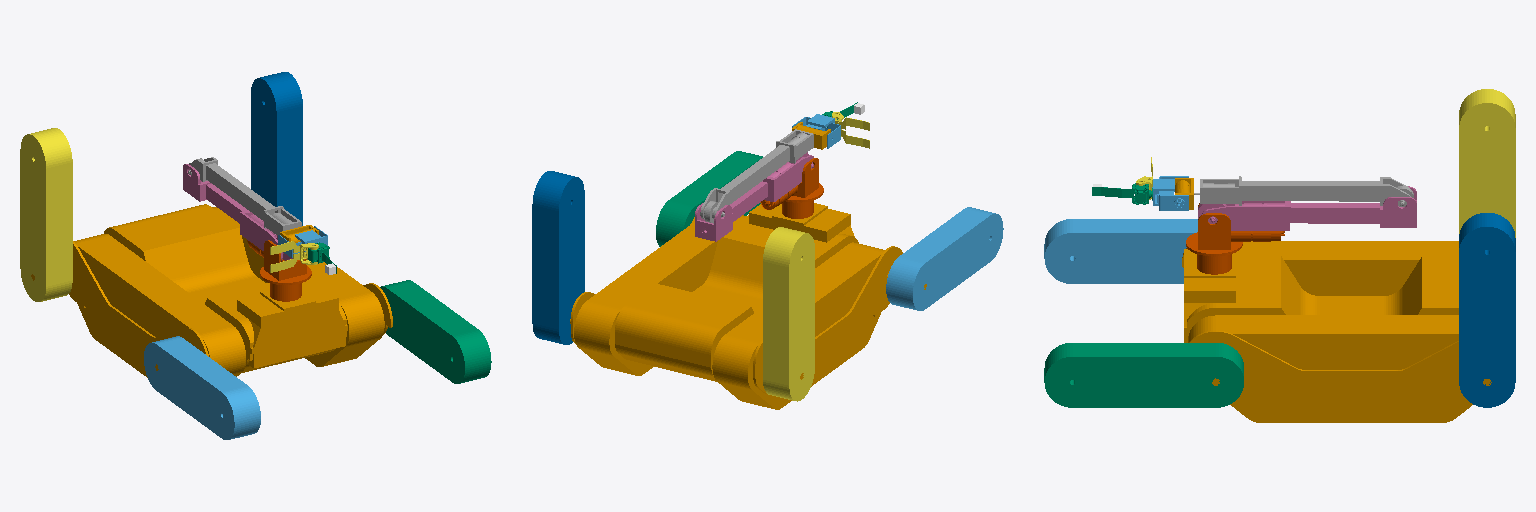
URDF robot description (finder):
<?xml version="1.0" ?>
<!-- =================================================================================== -->
<!-- |    This document was autogenerated by xacro from finder.xacro                   | -->
<!-- |    EDITING THIS FILE BY HAND IS NOT RECOMMENDED                                 | -->
<!-- =================================================================================== -->
<!--Taller de Robotica Abierta
	FinDER robot xacro file 
	developed by [author] 
	December 2016 - January 2017
NOTA: NO utilizar acentos en codigo ni en comentarios, de lo contrario no se podra convertir a URDF.-->
<!-- Rojo= X, Verde=Y y Azul= Z (color de los ejes en Rviz)-->
<robot name="finder" xmlns:xacro="http://www.ros.org/wiki/xacro">
  <!-- Macro para "mandar llamar" a las mallas *.obj -->
  <!--General porpuse variables-->
  <!--Inertial matrix macro-->
  <!--Macro para crear los eslabones y "mandar llamar" a los brazos laterales del chasis-->
  <!--Macro para crear las juntas de los brazos laterales con el chasis-->
  <!--parameters for geometries in collision tags-->
  <!--///////////////////// shoulder collision geometry//////////////////////////////-->
  <!--///////////////////// elbow  collision geometry//////////////////////////////-->
  <!--altura en y-->
  <!--altura en x-->
  <!--altura en z-->
  <!--///////////////////// elbow  collision geometry//////////////////////////////-->
  <!--altura en y-->
  <!--altura en x-->
  <!--altura en z-->
  <!--Cylinder parameters-->
  <!-- Grasping frame -->
  <material name="White">
    <color rgba="1.0 1.0 1.0 1.0"/>
  </material>
  <!--//////////////////////////  base link //////////////////-->
  <!--link name = "base_link"></link-->
  <link name="base_link">
    <visual>
      <geometry>
        <!-- Typically, STL/DAE/OBJ model units are in mm, but RViz units are in m, hence models must be scaled down by 1000-->
        <mesh filename="package://finder_description/mallas/chasis.obj" scale="0.001 0.001 0.001"/>
      </geometry>
      <origin xyz="0 0 0"/>
    </visual>
    <collision>
      <geometry>
        <!-- Typically, STL/DAE/OBJ model units are in mm, but RViz units are in m, hence models must be scaled down by 1000-->
        <mesh filename="package://finder_description/mallas/chasis.obj" scale="0.001 0.001 0.001"/>
      </geometry>
      <origin xyz="0 0 0"/>
    </collision>
  </link>
  <!--////////////////// juntas de los brazos laterales del chasis //////////////////-->
  <!-- junta del brazo frontal derecho -->
  <joint name="right_front_flipper" type="revolute">
    <parent link="base_link"/>
    <child link="right_front_arm"/>
    <origin xyz="-0.3264 -0.30255 0.1556"/>
    <axis xyz="1 0 0"/>
    <limit effort="300" lower="-3.14159265359" upper="3.14159265359" velocity="0.1"/>
  </joint>
  <!-- junta del brazo frontal izquierdo -->
  <joint name="left_front_flipper" type="revolute">
    <parent link="base_link"/>
    <child link="left_front_arm"/>
    <origin xyz="0.3264 -0.30255 0.1556"/>
    <axis xyz="1 0 0"/>
    <limit effort="300" lower="-3.14159265359" upper="3.14159265359" velocity="0.1"/>
  </joint>
  <!-- junta del brazo trasero derecho -->
  <joint name="right_back_flipper" type="revolute">
    <parent link="base_link"/>
    <child link="right_back_arm"/>
    <origin xyz="-0.3264 0.30255 0.1556"/>
    <axis xyz="1 0 0"/>
    <limit effort="300" lower="-3.14159265359" upper="3.14159265359" velocity="0.1"/>
  </joint>
  <!-- junta del brazo trasero izquierdo -->
  <joint name="left_back_flipper" type="revolute">
    <parent link="base_link"/>
    <child link="left_back_arm"/>
    <origin xyz="0.3264 0.30255 0.1556"/>
    <axis xyz="1 0 0"/>
    <limit effort="300" lower="-3.14159265359" upper="3.14159265359" velocity="0.1"/>
  </joint>
  <!--////////////// brazos laterales del chasis ////////////////////-->
  <!-- brazo frontal derecho chasis -->
  <link name="right_front_arm">
    <visual>
      <geometry>
        <!-- Typically, STL/DAE/OBJ model units are in mm, but RViz units are in m, hence models must be scaled down by 1000-->
        <mesh filename="package://finder_description/mallas/brazo_der_frontal.obj" scale="0.001 0.001 0.001"/>
      </geometry>
      <origin xyz="0.3264 0.30255 -0.0629"/>
    </visual>
    <collision>
      <geometry>
        <!-- Typically, STL/DAE/OBJ model units are in mm, but RViz units are in m, hence models must be scaled down by 1000-->
        <mesh filename="package://finder_description/mallas/brazo_der_frontal.obj" scale="0.001 0.001 0.001"/>
      </geometry>
      <origin xyz="0.3264 0.30255 -0.0629"/>
    </collision>
  </link>
  <!-- brazo frontal izquierdo chasis -->
  <link name="left_front_arm">
    <visual>
      <geometry>
        <!-- Typically, STL/DAE/OBJ model units are in mm, but RViz units are in m, hence models must be scaled down by 1000-->
        <mesh filename="package://finder_description/mallas/brazo_izq_frontal.obj" scale="0.001 0.001 0.001"/>
      </geometry>
      <origin xyz="-0.3264 0.30255 -0.0629"/>
    </visual>
    <collision>
      <geometry>
        <!-- Typically, STL/DAE/OBJ model units are in mm, but RViz units are in m, hence models must be scaled down by 1000-->
        <mesh filename="package://finder_description/mallas/brazo_izq_frontal.obj" scale="0.001 0.001 0.001"/>
      </geometry>
      <origin xyz="-0.3264 0.30255 -0.0629"/>
    </collision>
  </link>
  <!-- brazo trasero derecho chasis -->
  <link name="right_back_arm">
    <visual>
      <geometry>
        <!-- Typically, STL/DAE/OBJ model units are in mm, but RViz units are in m, hence models must be scaled down by 1000-->
        <mesh filename="package://finder_description/mallas/brazo_der_trasero.obj" scale="0.001 0.001 0.001"/>
      </geometry>
      <origin xyz="0.3264 -0.30255 -0.0629"/>
    </visual>
    <collision>
      <geometry>
        <!-- Typically, STL/DAE/OBJ model units are in mm, but RViz units are in m, hence models must be scaled down by 1000-->
        <mesh filename="package://finder_description/mallas/brazo_der_trasero.obj" scale="0.001 0.001 0.001"/>
      </geometry>
      <origin xyz="0.3264 -0.30255 -0.0629"/>
    </collision>
  </link>
  <!-- brazo trasero izquierdo chasis -->
  <link name="left_back_arm">
    <visual>
      <geometry>
        <!-- Typically, STL/DAE/OBJ model units are in mm, but RViz units are in m, hence models must be scaled down by 1000-->
        <mesh filename="package://finder_description/mallas/brazo_izq_trasero.obj" scale="0.001 0.001 0.001"/>
      </geometry>
      <origin xyz="-0.3264 -0.30255 -0.0629"/>
    </visual>
    <collision>
      <geometry>
        <!-- Typically, STL/DAE/OBJ model units are in mm, but RViz units are in m, hence models must be scaled down by 1000-->
        <mesh filename="package://finder_description/mallas/brazo_izq_trasero.obj" scale="0.001 0.001 0.001"/>
      </geometry>
      <origin xyz="-0.3264 -0.30255 -0.0629"/>
    </collision>
  </link>
  <!--///////////////// Brazo 6GDL + Gripper//////////////////-->
  <!--////////////////// "eje tronco" rotation joint //////////////////-->
  <joint name="base_rotation" type="revolute">
    <parent link="base_link"/>
    <child link="eje_tronco"/>
    <origin rpy="0 0 0" xyz="0 -0.30645 0.2236"/>
    <axis xyz="0 0 1"/>
    <limit effort="300" lower="-3.14159265359" upper="3.14159265359" velocity="0.1"/>
  </joint>
  <!--////////////////// "eje tronco link" //////////////////-->
  <link name="eje_tronco">
    <visual>
      <geometry>
        <!-- Typically, STL/DAE/OBJ model units are in mm, but RViz units are in m, hence models must be scaled down by 1000-->
        <mesh filename="package://finder_description/mallas/base.obj" scale="0.001 0.001 0.001"/>
      </geometry>
      <origin xyz="0 0 0"/>
    </visual>
    <collision>
      <geometry>
        <!-- Typically, STL/DAE/OBJ model units are in mm, but RViz units are in m, hence models must be scaled down by 1000-->
        <mesh filename="package://finder_description/mallas/base.obj" scale="0.001 0.001 0.001"/>
      </geometry>
    </collision>
  </link>
  <!--//////////////////"eje_tronco-shoulder rotation joint//////////////////-->
  <joint name="shoulder_rotation" type="revolute">
    <parent link="eje_tronco"/>
    <child link="shoulder"/>
    <origin xyz="0 -0.0035 0.179"/>
    <axis xyz="1 0 0"/>
    <!--limit effort="300" velocity="0.1" lower="${-pi}" upper="${pi}"/-->
    <limit effort="300" lower="0" upper="3.1" velocity="0.1"/>
  </joint>
  <!--////////////////////// shoulder link //////////////////////-->
  <link name="shoulder">
    <visual>
      <geometry>
        <!-- Typically, STL/DAE/OBJ model units are in mm, but RViz units are in m, hence models must be scaled down by 1000-->
        <mesh filename="package://finder_description/mallas/hombro.obj" scale="0.001 0.001 0.001"/>
      </geometry>
      <origin xyz="0 0.0035 -0.0338"/>
    </visual>
    <collision>
      <origin xyz="0 0.0035 -0.0338"/>
      <geometry>
        <!-- Typically, STL/DAE/OBJ model units are in mm, but RViz units are in m, hence models must be scaled down by 1000-->
        <mesh filename="package://finder_description/mallas/hombro.obj" scale="0.001 0.001 0.001"/>
      </geometry>
    </collision>
  </link>
  <!--///////////////////// "shoulder-elbow" rotation joint ////////////////////////////-->
  <joint name="elbow_rotation" type="revolute">
    <parent link="shoulder"/>
    <child link="elbow"/>
    <origin xyz="0 0.423 0.0363"/>
    <axis xyz="1 0 0"/>
    <!--limit effort="300" velocity="0.1" lower="${-pi}" upper="${pi}"/-->
    <limit effort="300" lower="-2.3" upper="0" velocity="0.1"/>
  </joint>
  <!--////////////////////// elbow link /////////////////////////////////////-->
  <link name="elbow">
    <visual>
      <!--origin xyz= "0 -0.4192 -0.027"/-->
      <origin xyz="0 -0.668 -0.027"/>
      <geometry>
        <!-- Typically, STL/DAE/OBJ model units are in mm, but RViz units are in m, hence models must be scaled down by 1000-->
        <mesh filename="package://finder_description/mallas/codo.obj" scale="0.001 0.001 0.001"/>
      </geometry>
    </visual>
    <collision>
      <origin xyz="0 -0.4192 -0.027"/>
      <geometry>
        <!-- Typically, STL/DAE/OBJ model units are in mm, but RViz units are in m, hence models must be scaled down by 1000-->
        <mesh filename="package://finder_description/mallas/codo.obj" scale="0.001 0.001 0.001"/>
      </geometry>
    </collision>
  </link>
  <!--/////////////////////// roll joint ///////////////////////-->
  <joint name="roll_rotation" type="revolute">
    <parent link="elbow"/>
    <child link="roll"/>
    <origin xyz="0 -0.4192 0.0103"/>
    <axis xyz="0 1 0"/>
    <limit effort="300" lower="-3.14159265359" upper="3.14159265359" velocity="0.1"/>
  </joint>
  <!--//////////////////// roll link ////////////////////////////////-->
  <link name="roll">
    <visual>
      <geometry>
        <!-- Typically, STL/DAE/OBJ model units are in mm, but RViz units are in m, hence models must be scaled down by 1000-->
        <mesh filename="package://finder_description/mallas/roll1.obj" scale="0.001 0.001 0.001"/>
      </geometry>
      <origin xyz="0 0 -0.0188"/>
    </visual>
    <collision>
      <origin rpy="0 0 0" xyz="0 0 -0.0188"/>
      <geometry>
        <!-- Typically, STL/DAE/OBJ model units are in mm, but RViz units are in m, hence models must be scaled down by 1000-->
        <mesh filename="package://finder_description/mallas/roll1.obj" scale="0.001 0.001 0.001"/>
      </geometry>
    </collision>
  </link>
  <!--///////////////// pitch rotation joint////////////////////////////////-->
  <joint name="pitch_rotation" type="revolute">
    <parent link="roll"/>
    <child link="pitch"/>
    <origin xyz="0 -0.0778 0"/>
    <axis xyz="1 0 0"/>
    <!--limit effort="300" velocity="0.1" lower="${-pi}" upper="${pi}"/-->
    <limit effort="300" lower="-1.0471975512" upper="1.0471975512" velocity="0.1"/>
  </joint>
  <!--//////////////////// pitch link ////////////////////////7-->
  <link name="pitch">
    <visual>
      <geometry>
        <!-- Typically, STL/DAE/OBJ model units are in mm, but RViz units are in m, hence models must be scaled down by 1000-->
        <mesh filename="package://finder_description/mallas/pitch_light.obj" scale="0.001 0.001 0.001"/>
      </geometry>
      <!--origin xyz= "0 0.0778 -0.0188"/-->
      <origin xyz="0 0.048 -0.0188"/>
    </visual>
    <collision>
      <geometry>
        <!-- Typically, STL/DAE/OBJ model units are in mm, but RViz units are in m, hence models must be scaled down by 1000-->
        <mesh filename="package://finder_description/mallas/pitch_light.obj" scale="0.001 0.001 0.001"/>
      </geometry>
      <origin xyz="0 0.0778 -0.0188"/>
    </collision>
  </link>
  <!--////////////////////// yaw rotation joint /////////////////////////////7-->
  <joint name="roll_rotation_2" type="revolute">
    <parent link="pitch"/>
    <child link="yaw"/>
    <origin xyz="0 -0.0835 0"/>
    <axis xyz="0 1 0"/>
    <limit effort="300" lower="-3.14159265359" upper="3.14159265359" velocity="0.1"/>
  </joint>
  <!-- ///////////////////// yaw link ///////////////////////////////-->
  <link name="yaw">
    <visual>
      <geometry>
        <!-- Typically, STL/DAE/OBJ model units are in mm, but RViz units are in m, hence models must be scaled down by 1000-->
        <mesh filename="package://finder_description/mallas/yaw.obj" scale="0.001 0.001 0.001"/>
      </geometry>
      <!--origin xyz= "0.0007 0 0.00053"/-->
      <origin xyz="0.0007 0 -0.019"/>
    </visual>
    <collision>
      <geometry>
        <!-- Typically, STL/DAE/OBJ model units are in mm, but RViz units are in m, hence models must be scaled down by 1000-->
        <mesh filename="package://finder_description/mallas/yaw.obj" scale="0.001 0.001 0.001"/>
      </geometry>
      <!--origin xyz= "0.0007 0 0.00053"/-->
      <origin xyz="0.0007 0 -0.019"/>
    </collision>
  </link>
  <!--////////////////////// gripper rotation joint /////////////////////////////7-->
  <joint name="gripper_rotation" type="revolute">
    <parent link="yaw"/>
    <child link="gripper"/>
    <origin xyz="-0.0147485 -0.003042 0"/>
    <axis xyz="0 0 1"/>
    <!--limit effort="300" velocity="0.1" lower="${-pi}" upper="${pi}"/-->
    <limit effort="300" lower="0" upper="3.14159265359" velocity="0.1"/>
  </joint>
  <!-- ///////////////////// gripper link ///////////////////////////////-->
  <link name="gripper">
    <visual>
      <geometry>
        <!-- Typically, STL/DAE/OBJ model units are in mm, but RViz units are in m, hence models must be scaled down by 1000-->
        <mesh filename="package://finder_description/mallas/fingers.obj" scale="0.001 0.001 0.001"/>
      </geometry>
      <origin xyz="-0.00425 0.0071 -0.035"/>
    </visual>
    <collision>
      <geometry>
        <!-- Typically, STL/DAE/OBJ model units are in mm, but RViz units are in m, hence models must be scaled down by 1000-->
        <mesh filename="package://finder_description/mallas/fingers.obj" scale="0.001 0.001 0.001"/>
      </geometry>
      <origin xyz="-0.00425 0.0071 0"/>
    </collision>
  </link>
  <link name="grasping_frame">
    <inertial>
      <origin rpy="0 0 0" xyz="0 0 0"/>
      <mass value="0.001"/>
      <cuboid_inertia mass="0.0001" x="0.001" y="0.001" z="0.001"/>
      <inertia ixx="1.0" ixy="0.0" ixz="0.0" iyy="100.0" iyz="0.0" izz="1.0"/>
    </inertial>
    <visual>
      <origin xyz="0 0 0"/>
      <geometry>
        <box size="0.02 0.02 0.02"/>
      </geometry>
      <material name="White"/>
    </visual>
  </link>
  <!-- ////////////// Finger-Grasping joint///////////// -->
  <joint name="grasping_frame_joint" type="fixed">
    <parent link="yaw"/>
    <child link="grasping_frame"/>
    <origin xyz="-0.023 -0.1 0"/>
  </joint>
</robot>

--- What the picture shows (computed from the rendered views, not written in the file) ---
The picture shows the robot from 3 angles, left to right: view 1: azimuth 30°, elevation 25°; view 2: azimuth 150°, elevation 25°; view 3: azimuth 270°, elevation 25°; orthographic projection.
Model finder with 13 links and 12 joints (11 revolute, 1 fixed), rooted at base_link, posed every joint at zero.
Links seen in each view (by area): view 1: base_link, right_back_arm, right_front_arm, left_back_arm, left_front_arm, elbow, shoulder, eje_tronco, gripper; view 2: base_link, right_back_arm, left_back_arm, right_front_arm, left_front_arm, elbow, shoulder, eje_tronco, pitch, gripper; view 3: base_link, left_front_arm, left_back_arm, right_front_arm, right_back_arm, shoulder, elbow, eje_tronco, pitch, yaw.
Link boxes in pixels (<box>): base_link: <box>31,204,392,377</box>; right_back_arm: <box>20,128,72,301</box>; right_front_arm: <box>144,336,260,439</box>; left_back_arm: <box>251,72,302,225</box>; left_front_arm: <box>380,280,491,383</box>; elbow: <box>188,157,301,235</box>; shoulder: <box>183,164,292,260</box>; eje_tronco: <box>247,240,311,301</box>; gripper: <box>270,241,318,272</box>; base_link: <box>570,203,926,409</box>; right_back_arm: <box>763,227,814,401</box>; left_back_arm: <box>532,171,584,344</box>; right_front_arm: <box>886,207,1003,310</box>; left_front_arm: <box>656,151,762,246</box>; elbow: <box>700,129,813,223</box>; shoulder: <box>695,152,813,241</box>; eje_tronco: <box>760,158,823,218</box>; pitch: <box>792,114,840,148</box>; gripper: <box>832,112,869,148</box>; base_link: <box>1182,241,1491,422</box>; left_front_arm: <box>1044,343,1243,407</box>; left_back_arm: <box>1459,213,1515,407</box>; right_front_arm: <box>1044,219,1197,283</box>; right_back_arm: <box>1459,89,1515,237</box>; shoulder: <box>1198,186,1416,230</box>; elbow: <box>1194,176,1413,206</box>; eje_tronco: <box>1186,203,1284,274</box>; pitch: <box>1152,176,1188,210</box>; yaw: <box>1092,183,1152,204</box>.
Bounding box of the posed robot: 0.7278 × 1.05 × 0.5386 m (x, y, z).
12 mesh visuals loaded from 12 distinct referenced files (12 OBJ).